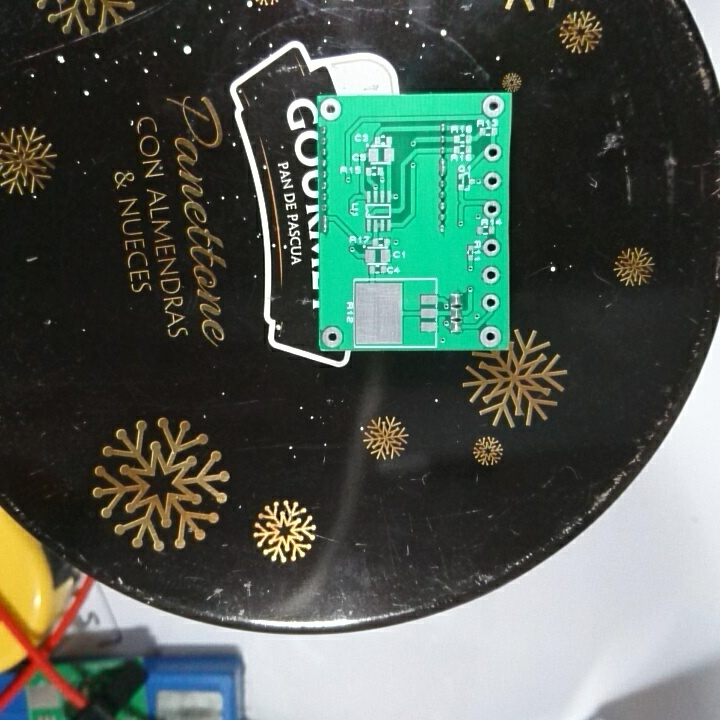F: (479, 92, 507, 119), (319, 323, 347, 349), (318, 98, 346, 123), (477, 325, 506, 349), (480, 236, 503, 260), (481, 197, 504, 220), (481, 169, 503, 192), (482, 141, 504, 163), (479, 292, 501, 314), (479, 265, 501, 286)
P: (436, 155, 450, 178), (319, 213, 331, 237)
